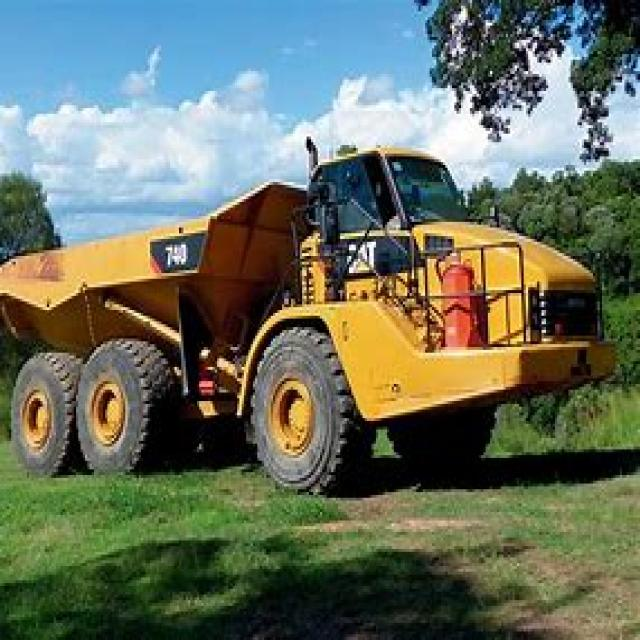dump_truck: (9, 122, 620, 501)
